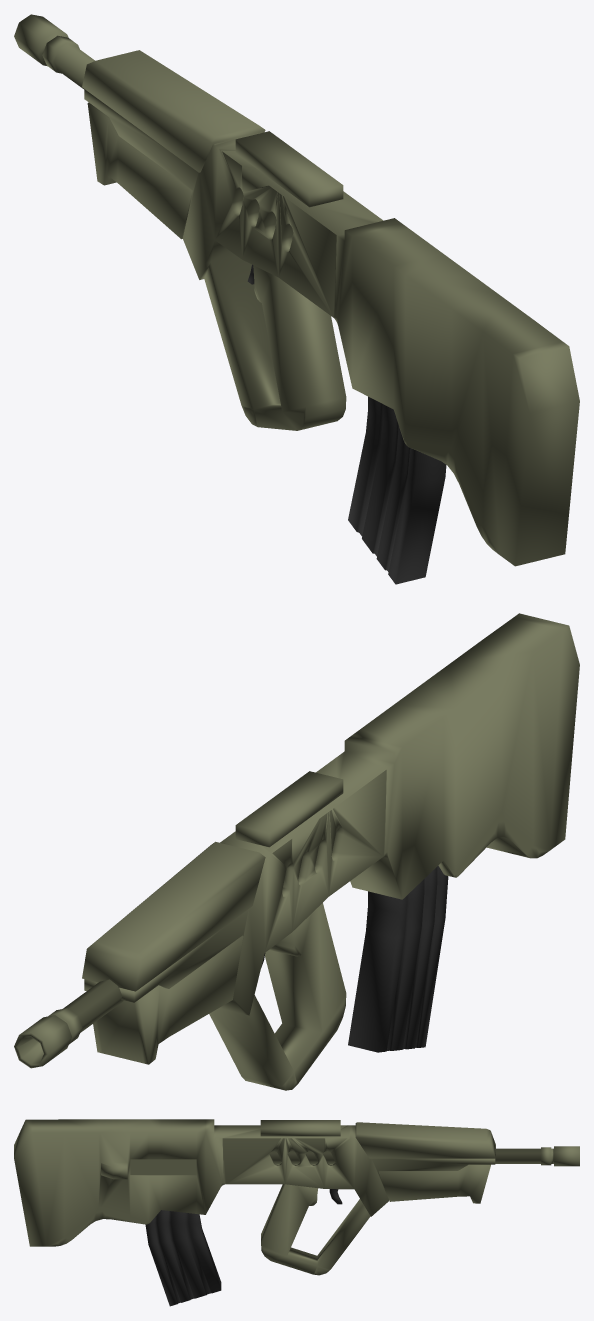
The model's file is TAR 21.fbx.
3 views of the same model, one above another, from view 1: azimuth 30°, elevation 25°; view 2: azimuth 150°, elevation 25°; view 3: azimuth 270°, elevation 25° (orthographic). The views are drawn at different scales.
Visible parts, largest first — view 1: TAR 21, Magazin; view 2: TAR 21, Magazin; view 3: TAR 21, Magazin.
Boxes of the visible parts, x1,y1,x2,y2 form: TAR 21: [14, 14, 579, 566]; Magazin: [348, 396, 446, 584]; TAR 21: [14, 613, 579, 1090]; Magazin: [348, 865, 448, 1052]; TAR 21: [14, 1119, 579, 1275]; Magazin: [145, 1210, 221, 1306].
Size of the model in its own units: 49.7 by 224 by 644.
